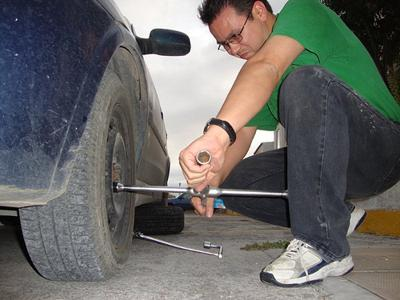person: (178, 2, 400, 285)
